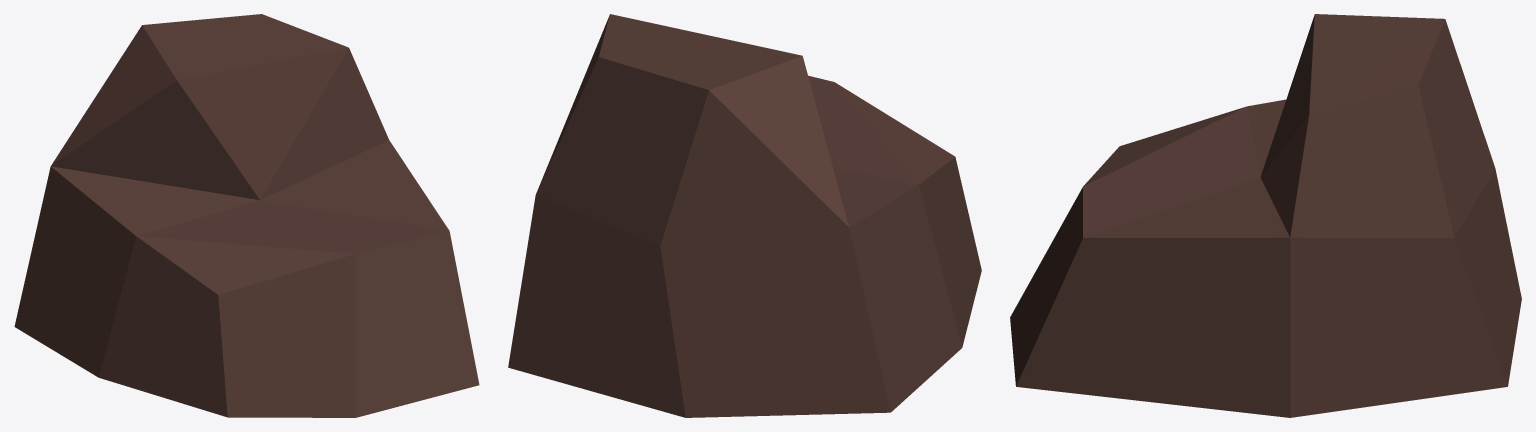
The model's file is FlatRock-B11.fbx.
3 views of the same model, side by side, from view 1: azimuth 30°, elevation 25°; view 2: azimuth 150°, elevation 25°; view 3: azimuth 270°, elevation 25° (orthographic). The views are drawn at different scales.
Parts seen in each view (by area): view 1: FlatRock-B11; view 2: FlatRock-B11; view 3: FlatRock-B11.
Part boxes in pixels (x1,y1,x2,y2): FlatRock-B11: (14,14,479,417); FlatRock-B11: (508,14,981,417); FlatRock-B11: (1010,14,1521,417).
Bounding box in the file's own units: 146 × 104 × 167.
